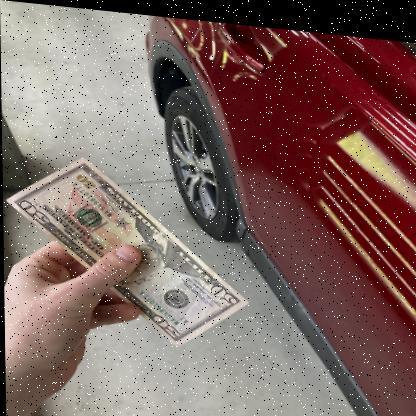fifty-front: (6, 157, 251, 347)
